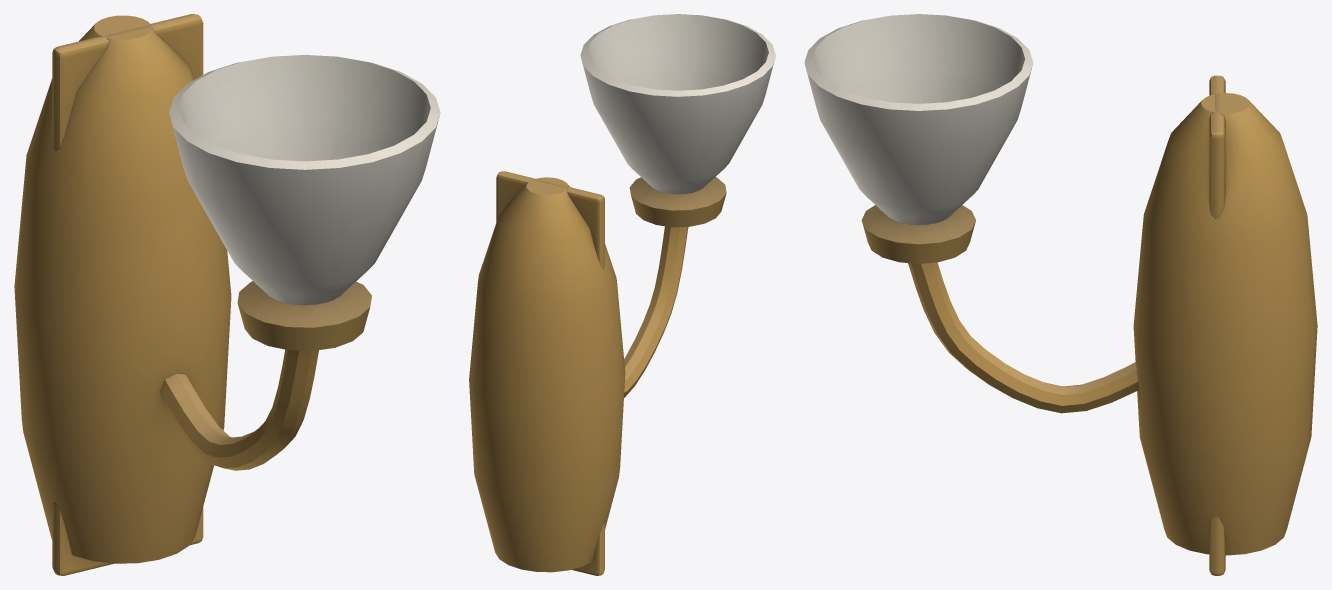
The model's file is wall_sconce.glb.
3 renders of one model, left to right at view 1: azimuth 30°, elevation 25°; view 2: azimuth 150°, elevation 25°; view 3: azimuth 270°, elevation 25°, orthographic. The views are drawn at different scales.
Visible parts, largest first — view 1: wall_sconce; view 2: wall_sconce; view 3: wall_sconce.
Part boxes in pixels (box(x1,y1,x2,y2)): wall_sconce: box(14, 14, 440, 575); wall_sconce: box(469, 14, 775, 575); wall_sconce: box(804, 14, 1317, 575).
Bounding box in the file's own units: 0.112 × 0.264 × 0.251.
Materials: 1 (1 with a texture image).
